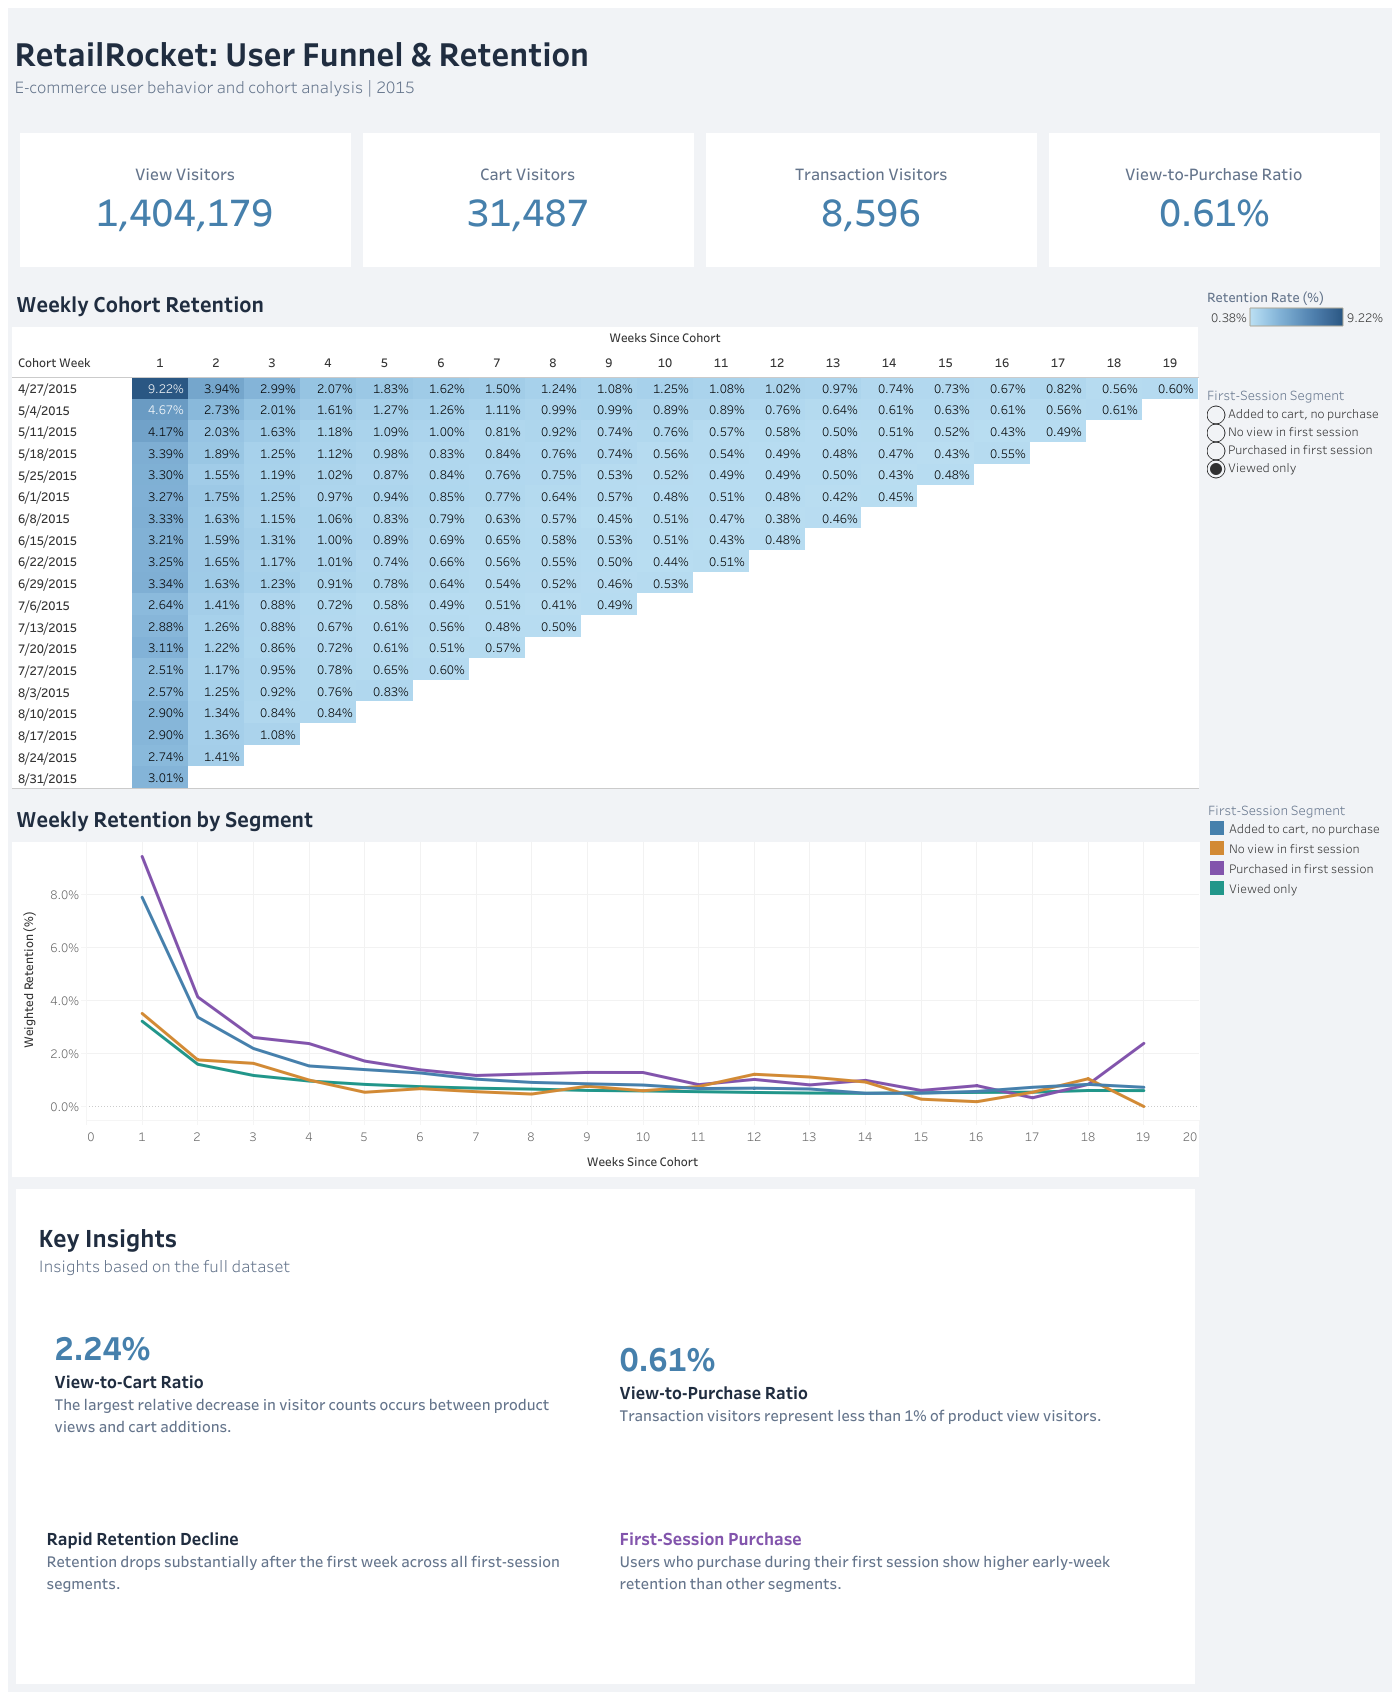

Layout of this report page (visuals, bound fields, positions):
{"tool":"tableau","page":{"name":"RetailRocket: User Funnel & Retention","canvas":[1400,1700],"ordinal":0},"visuals":[{"type":"title","box":[8,8,1384,113]},{"type":"worksheet","title":"KPI - View Visitors","mark":"Text","box":[14,127,343,146]},{"type":"worksheet","title":"KPI - Cart Visitors","mark":"Text","box":[357,127,343,146]},{"type":"worksheet","title":"KPI - Transaction Visitors","mark":"Text","box":[700,127,343,146]},{"type":"worksheet","title":"KPI - View-to-Purchase Ratio","mark":"Text","box":[1043,127,343,146]},{"type":"worksheet","title":"Retention","mark":"Square","rows":["cohort_week"],"cols":["week_number"],"box":[8,279,1195,515.3]},{"type":"legend","title":"Retention","param":"[federated.1qyiuvk1x09ynf13d1b0a0pppjql].[usr:Calculation_0775157517033475:qk]","box":[1203,279,189,101.4]},{"type":"filter","title":"Retention","param":"[federated.1qyiuvk1x09ynf13d1b0a0pppjql].[none:first_session_segment:nk]","box":[1203,380.4,189,413.8]},{"type":"legend","title":"Retention by segment","param":"[federated.1qyiuvk1x09ynf13d1b0a0pppjql].[none:first_session_segment:nk]","box":[1203,794.2,189,107]},{"type":"worksheet","title":"Retention by segment","mark":"Line","rows":["Calculation_0775157517033475"],"cols":["week_number"],"box":[8,794.3,1195,387.1]},{"type":"text","box":[32,1205.4,1147,87]},{"type":"text","box":[40,1300.4,559.5,161]},{"type":"text","box":[599.5,1300.4,571.5,161]},{"type":"text","box":[32,1469.4,583.5,181]},{"type":"text","box":[615.5,1469.4,563.5,181]}]}

Visuals, with their boxes in screenshot pixels (x1, y1, x2, y2), scaled from the page's 1400x1700 canvas onto the 1399x1699 screenshot:
title: 8, 8, 1391, 121
"KPI - View Visitors" worksheet (Text marks): 14, 127, 357, 273
"KPI - Cart Visitors" worksheet (Text marks): 357, 127, 700, 273
"KPI - Transaction Visitors" worksheet (Text marks): 700, 127, 1042, 273
"KPI - View-to-Purchase Ratio" worksheet (Text marks): 1042, 127, 1385, 273
"Retention" worksheet (Square marks): 8, 279, 1202, 794
"Retention" legend: 1202, 279, 1391, 380
"Retention" filter: 1202, 380, 1391, 794
"Retention by segment" legend: 1202, 794, 1391, 901
"Retention by segment" worksheet (Line marks): 8, 794, 1202, 1181
text: 32, 1205, 1178, 1292
text: 40, 1300, 599, 1461
text: 599, 1300, 1170, 1461
text: 32, 1469, 615, 1649
text: 615, 1469, 1178, 1649
